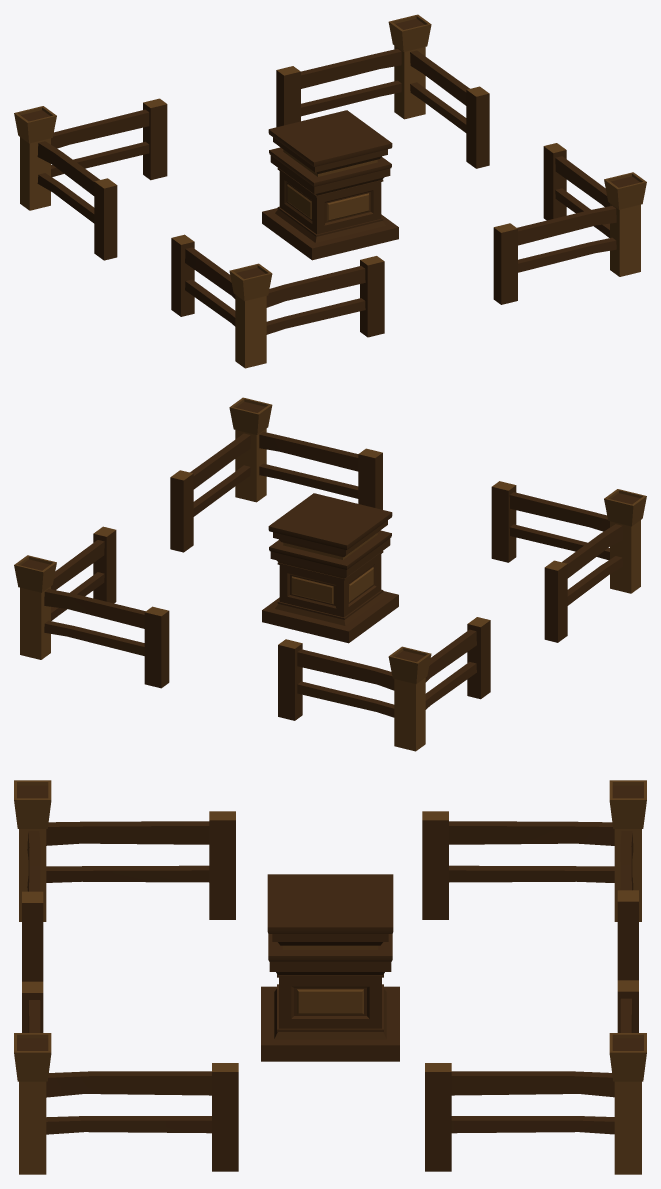
File: TownCenter_FirstAge_Level1.obj
3 renders of one model, top to bottom at view 1: azimuth 30°, elevation 25°; view 2: azimuth 150°, elevation 25°; view 3: azimuth 270°, elevation 25°, orthographic. The views are drawn at different scales.
Parts seen in each view (by area): view 1: TownCenter_FirstAge_Level1_Cube.276; view 2: TownCenter_FirstAge_Level1_Cube.276; view 3: TownCenter_FirstAge_Level1_Cube.276.
Boxes of the visible parts, left/top/right/bottom form: TownCenter_FirstAge_Level1_Cube.276: left=14, top=14, right=646, bottom=368; TownCenter_FirstAge_Level1_Cube.276: left=14, top=397, right=646, bottom=751; TownCenter_FirstAge_Level1_Cube.276: left=14, top=780, right=646, bottom=1174.
Size of the model in its own units: 1.26 by 0.3033 by 1.24.
